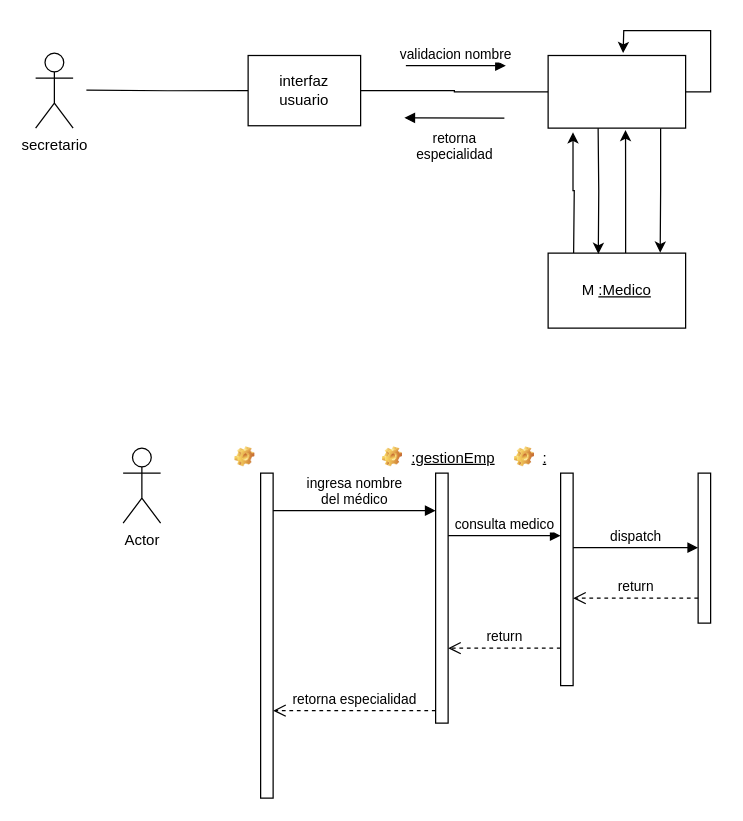
This 743x821 diagram has some shape labels left out. The shapes that lost their labels are listed below. From the top down, each one's centre as x and y in pixels, then its label:
At [616,91]: ":gestorMedico".
At [266,456]: ":form".
